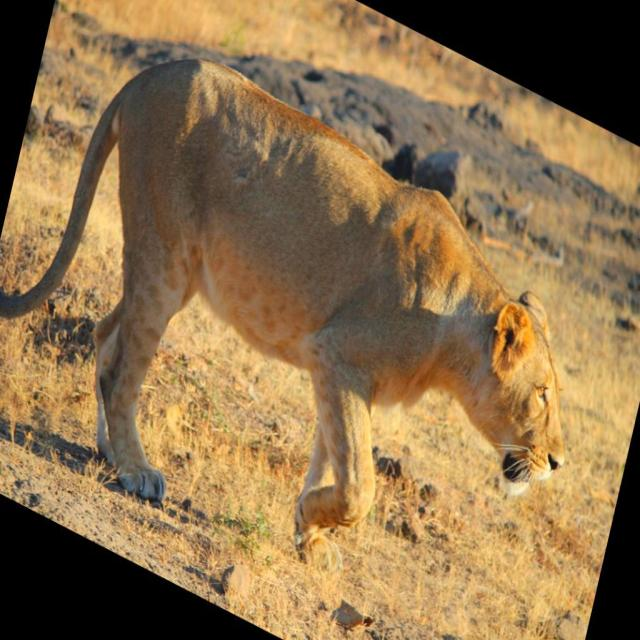Lion: (0, 0, 611, 639)
